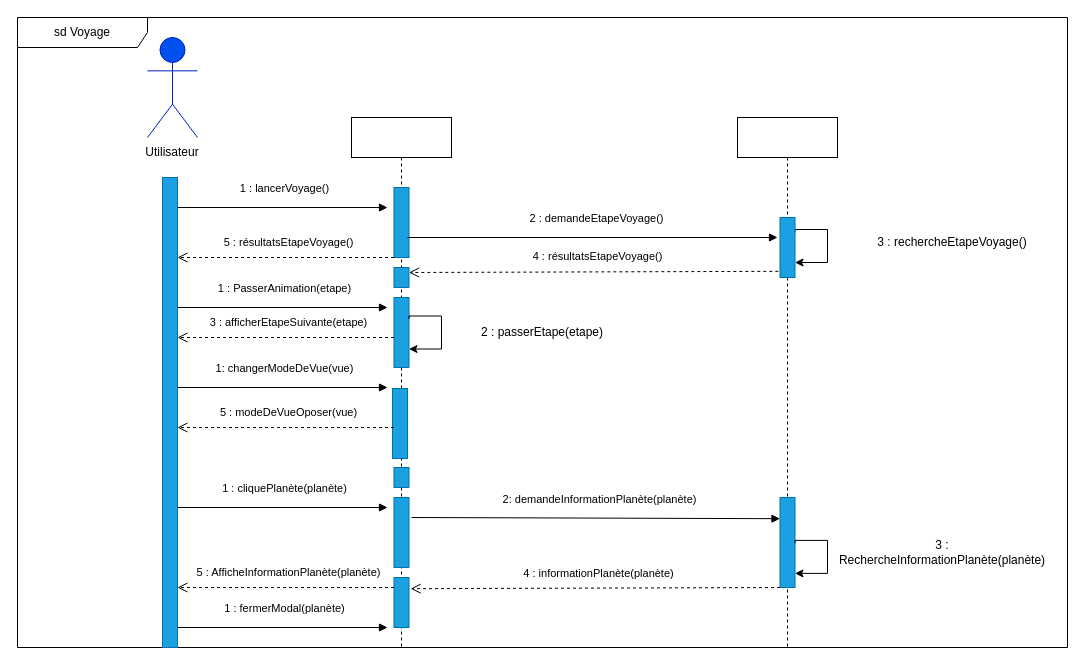
This 1085x665 diagram has some shape labels left out. The box of each missing label's shape, as (x1, y1, x2, y2) in pixels:
:BDD: (736, 116, 838, 648)
:Système: (350, 116, 452, 648)
